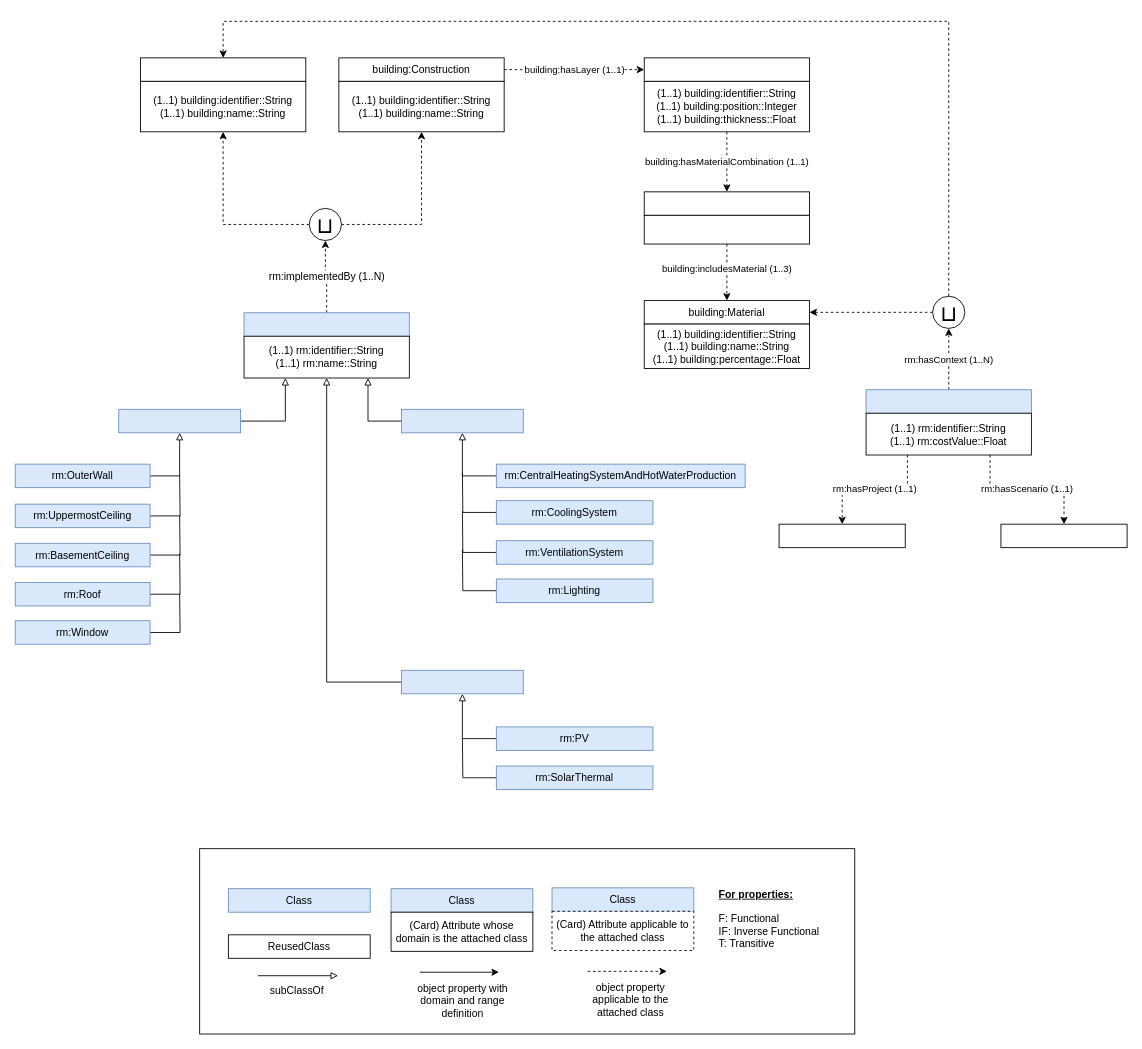
Some shapes in this 1142 by 1049 pixel diagram are drawn without their labels. The shapes that lost their labels are listed below. From the top down, each one's centre as x and y in pixels, then its label:
At pixel 223 69: "building:Component".
At pixel 726 69: "building:Layer".
At pixel 726 203: "building:MaterialCombination".
At pixel 726 229: "(1..1) building:identifier::String".
At pixel 326 324: "rm:RenovationMeasure".
At pixel 179 420: "rm: PassiveMeasure".
At pixel 462 420: "rm:ActiveMeasure".
At pixel 948 401: "rm:Cost".
At pixel 841 535: "kpi:Project".
At pixel 1063 535: "kpi:Scenario".
At pixel 462 681: "rm:RenewableMeasure".
